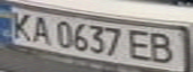0: (51, 18, 75, 50)
3: (84, 24, 109, 55)
6: (69, 20, 90, 53)
7: (103, 25, 127, 58)
A: (27, 14, 54, 45)
B: (145, 29, 181, 65)
E: (124, 27, 157, 62)
K: (3, 9, 39, 42)
